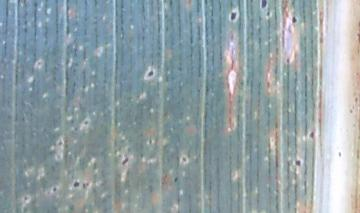tarspot: (224, 8, 241, 22), (291, 156, 306, 170), (305, 129, 320, 141), (257, 1, 274, 11), (171, 172, 182, 187), (119, 156, 132, 168), (145, 68, 159, 78), (289, 14, 299, 26), (179, 155, 191, 165), (71, 179, 82, 189), (49, 184, 59, 193)
